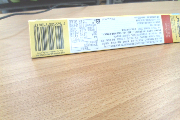Chocolate: (22, 14, 180, 61)
